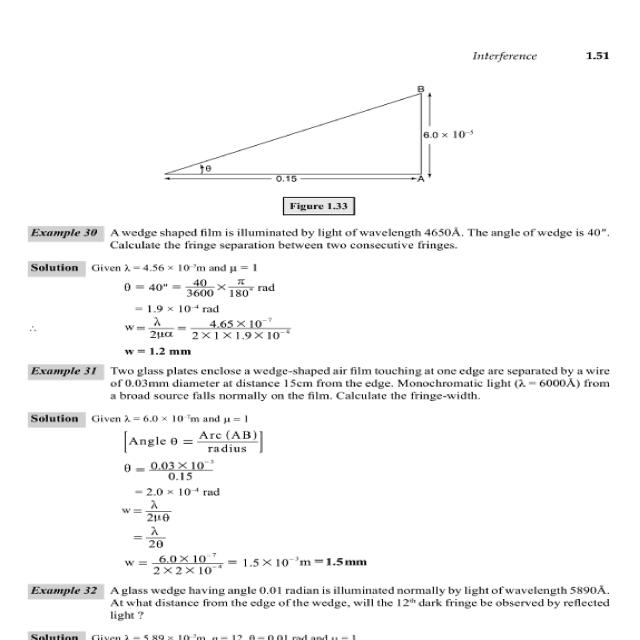diagram: (49, 67, 476, 216)
